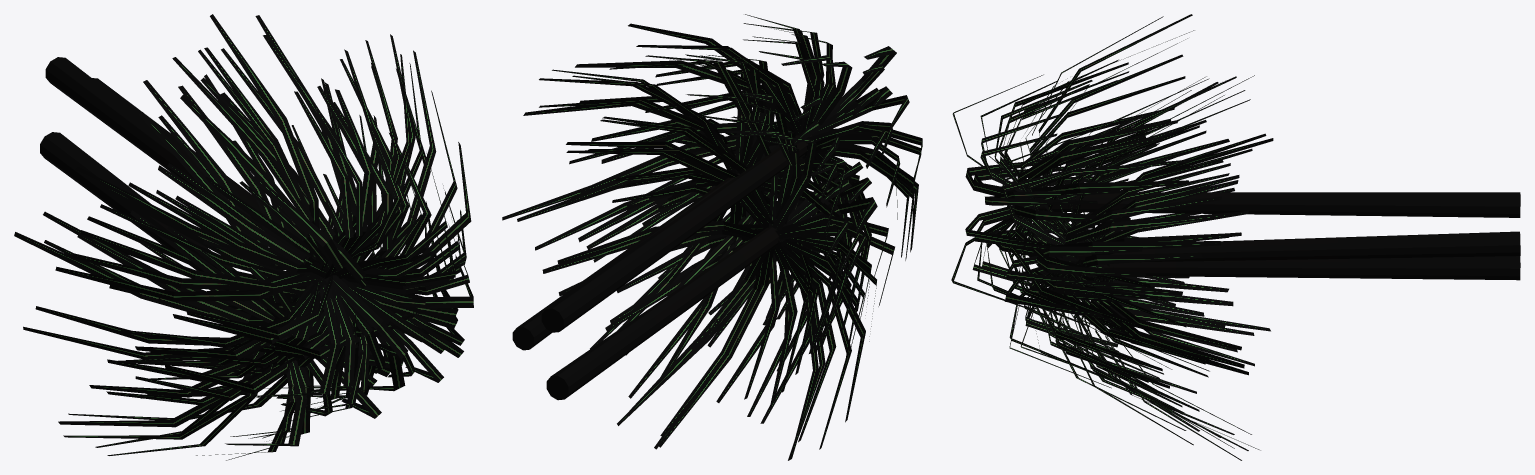
The model's file is VD_Dracaena_B.obj.
3 renders of one model, left to right at view 1: azimuth 30°, elevation 25°; view 2: azimuth 150°, elevation 25°; view 3: azimuth 270°, elevation 25°, orthographic. The views are drawn at different scales.
Visible parts, largest first — view 1: VD_Dracaena_B; view 2: VD_Dracaena_B; view 3: VD_Dracaena_B.
Boxes of the visible parts, bbox=[...] form: VD_Dracaena_B: bbox=[14, 14, 473, 460]; VD_Dracaena_B: bbox=[502, 14, 922, 460]; VD_Dracaena_B: bbox=[951, 14, 1520, 460].
Size of the model in its own units: 153 by 160 by 200.
2 materials, 1 textured.
